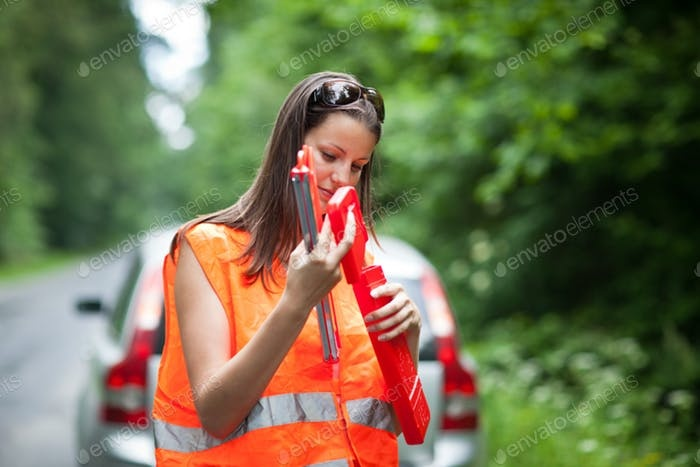person with partial safety: (177, 75, 412, 461)
safety vest: (172, 216, 397, 467)
